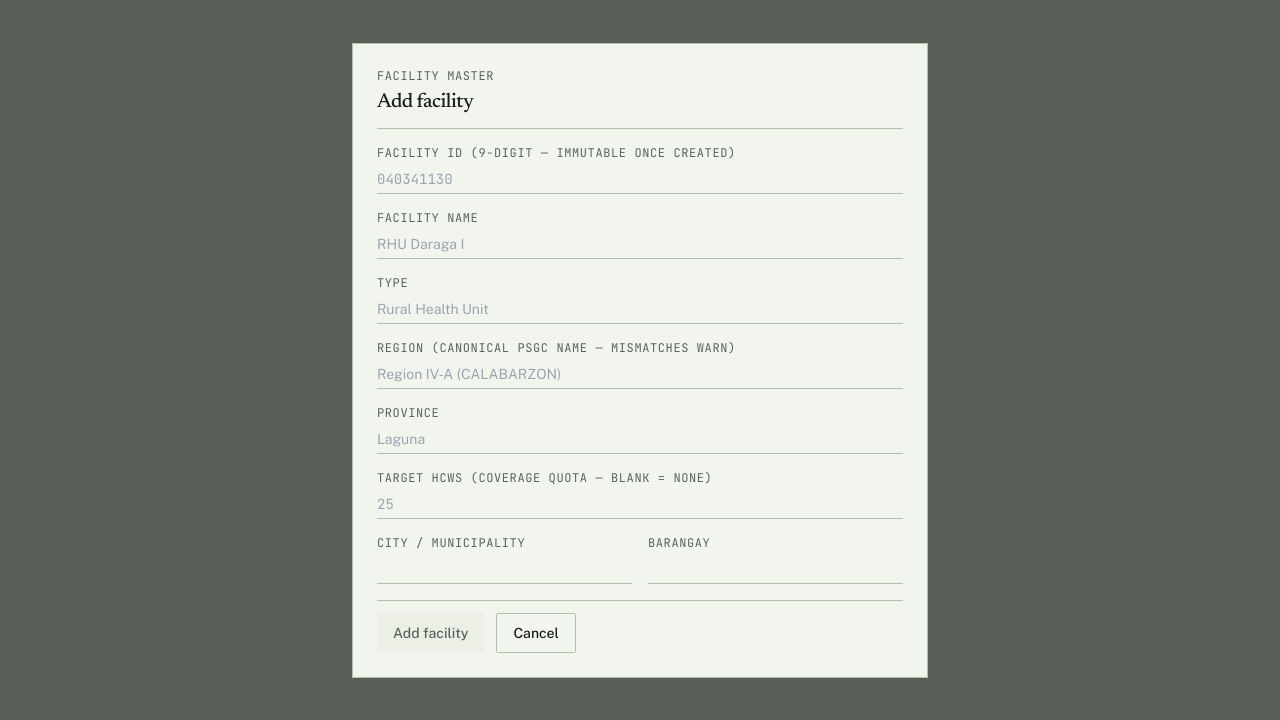
Test: <FacilityEditDialog> › surfaces a 409 conflict message
Type "040340210" into the field with test id "edit-facility-id". click: (640, 179)
box: [377,164,903,194]
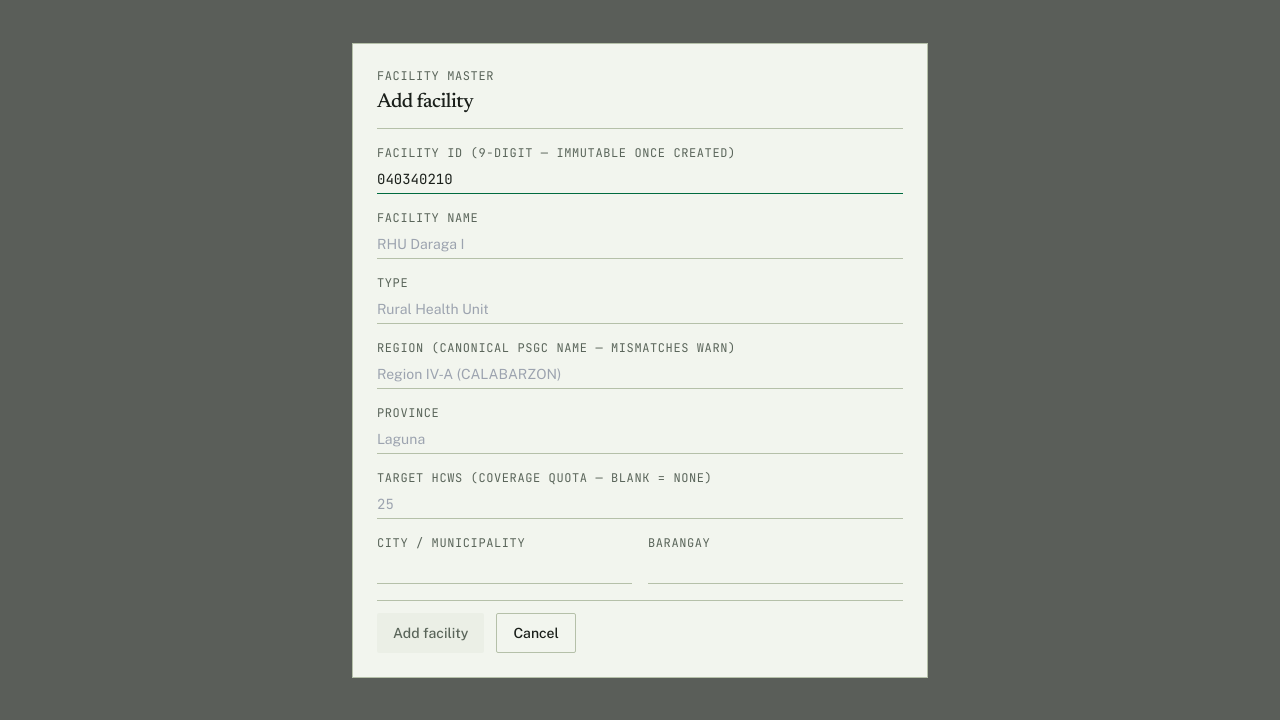
Type "Dup" into the field with test id "edit-facility-name". click: (640, 244)
box: [377,230,903,258]
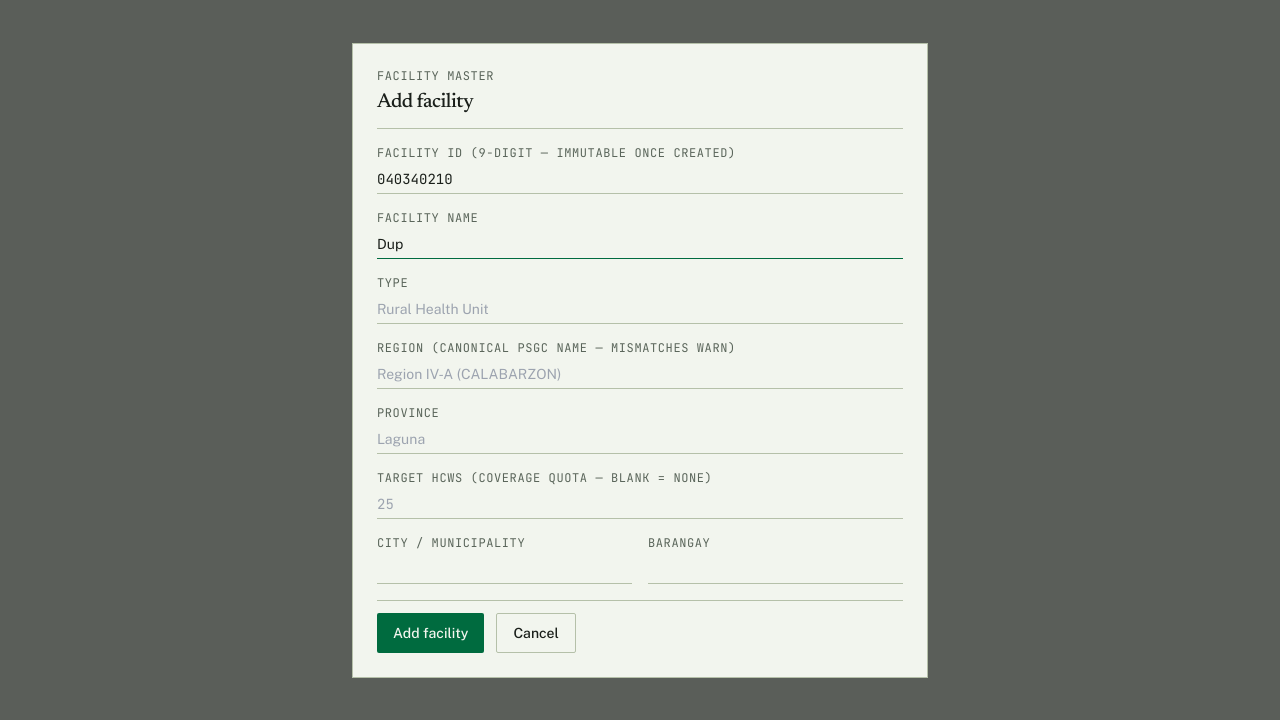
Click the button with test id "edit-save". click: (431, 632)
box: [377,612,484,652]
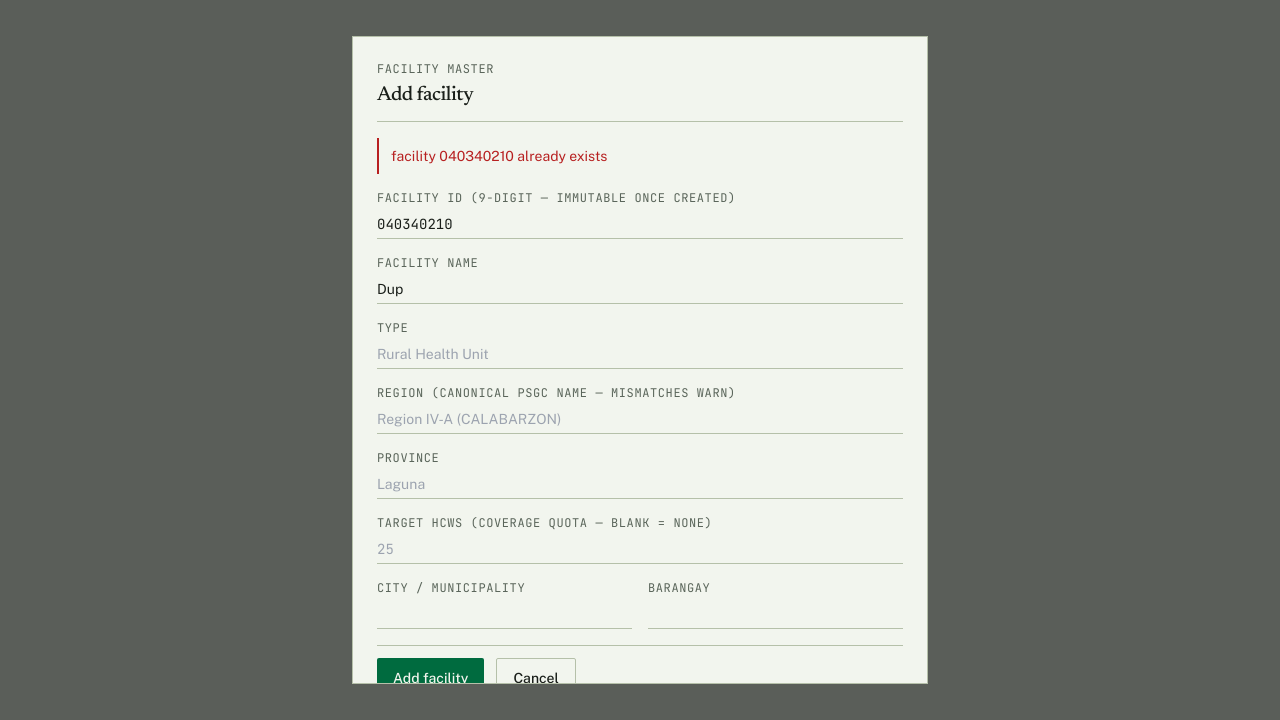
Expected: the message "facility 040340210 already exists" is shown, [377,138,903,174]
Expected: the message shows "already exists", [391,148,608,164]
